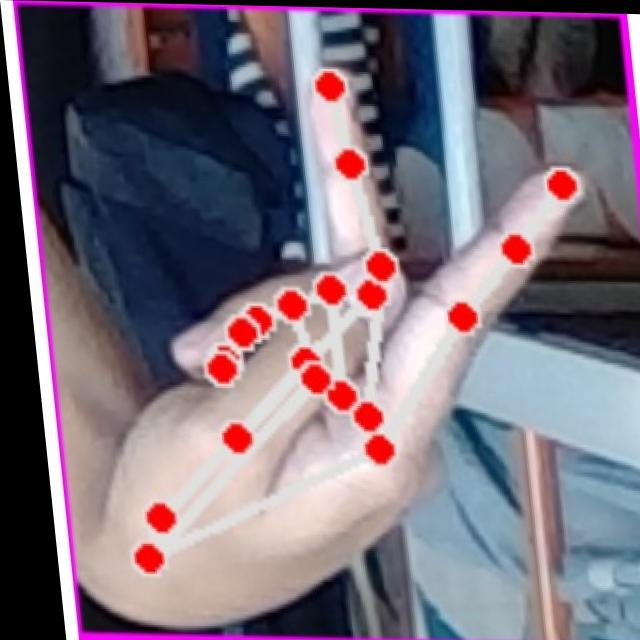P: (53, 40, 628, 622)
